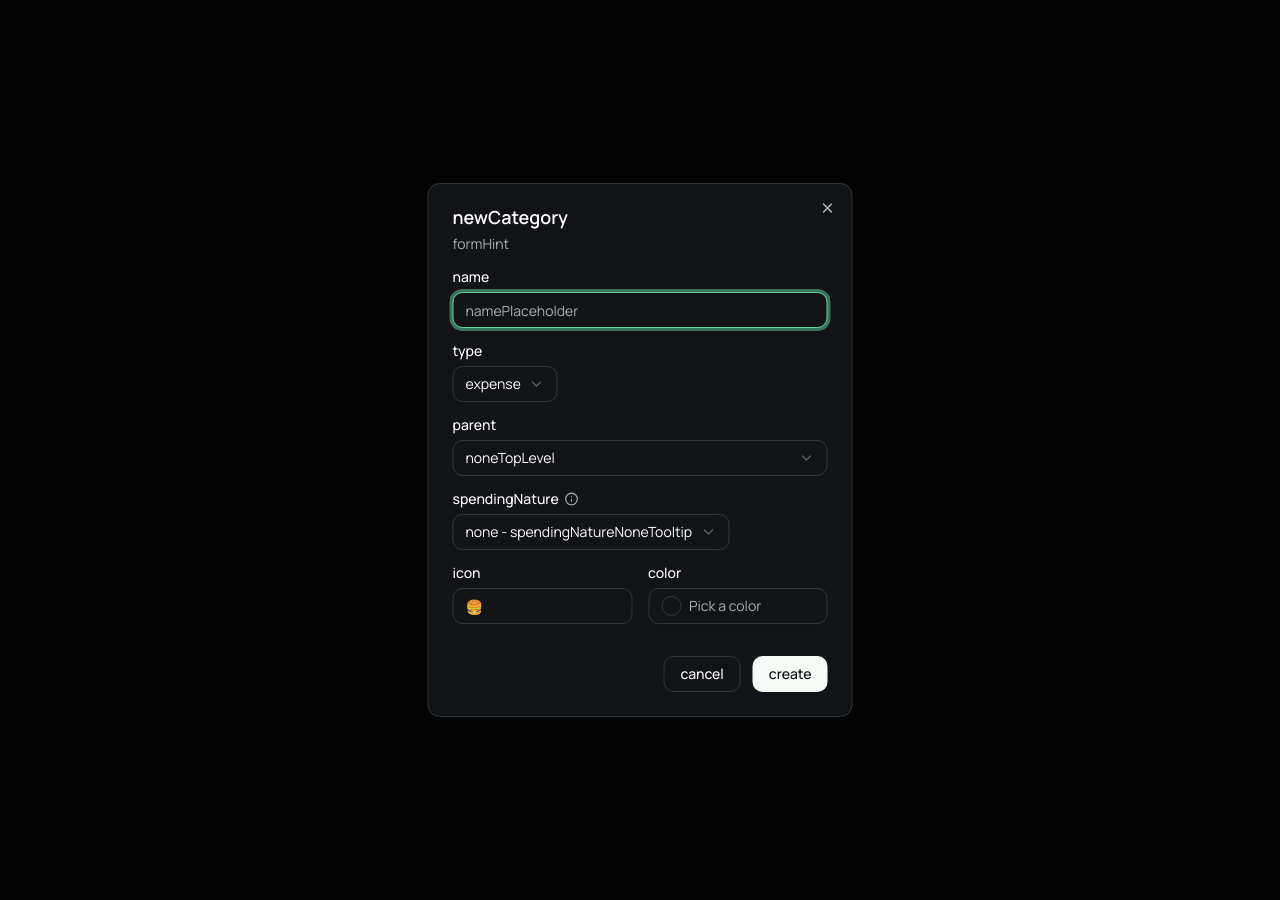
Test: category parent picker › searches parents of the matching transaction type
Click the dropdown named "parent" at (510, 458), box x1=452 y1=440 x2=828 y2=476
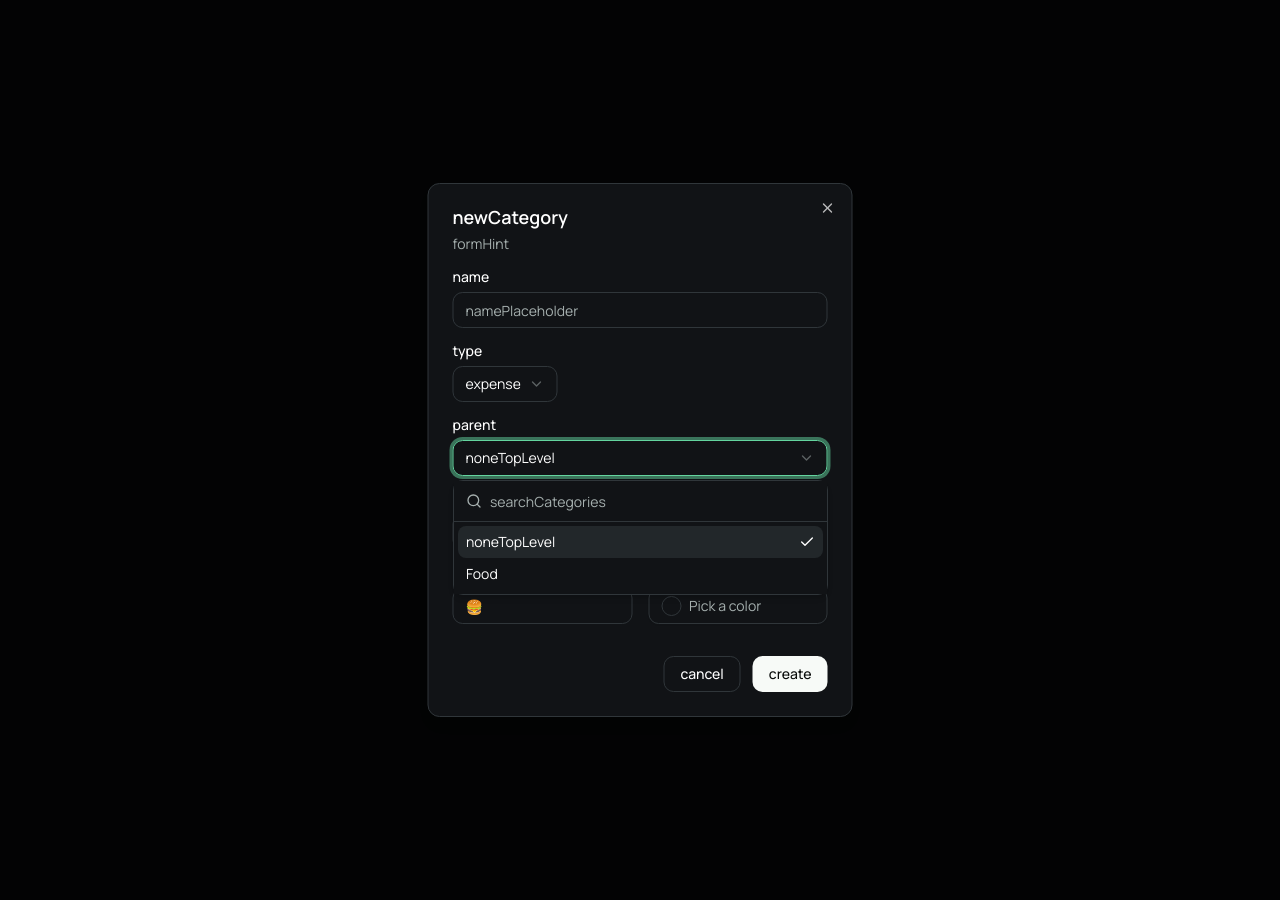
Now the dropdown with placeholder "searchCategories" is shown, box x1=490 y1=481 x2=815 y2=521
Now the option "Food" is shown, box x1=466 y1=564 x2=498 y2=583
